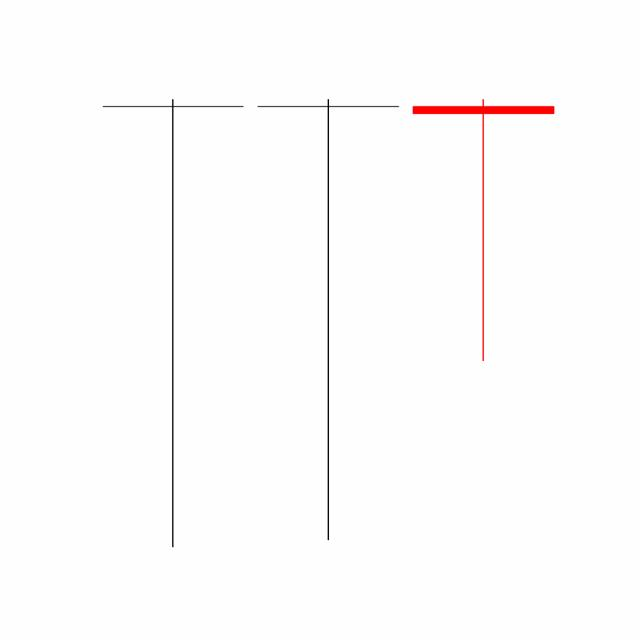Dragonfly Doji: (249, 93, 406, 544)
